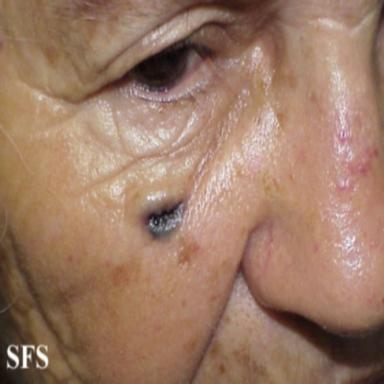basal-cell-carcinoma: (140, 192, 186, 239)
